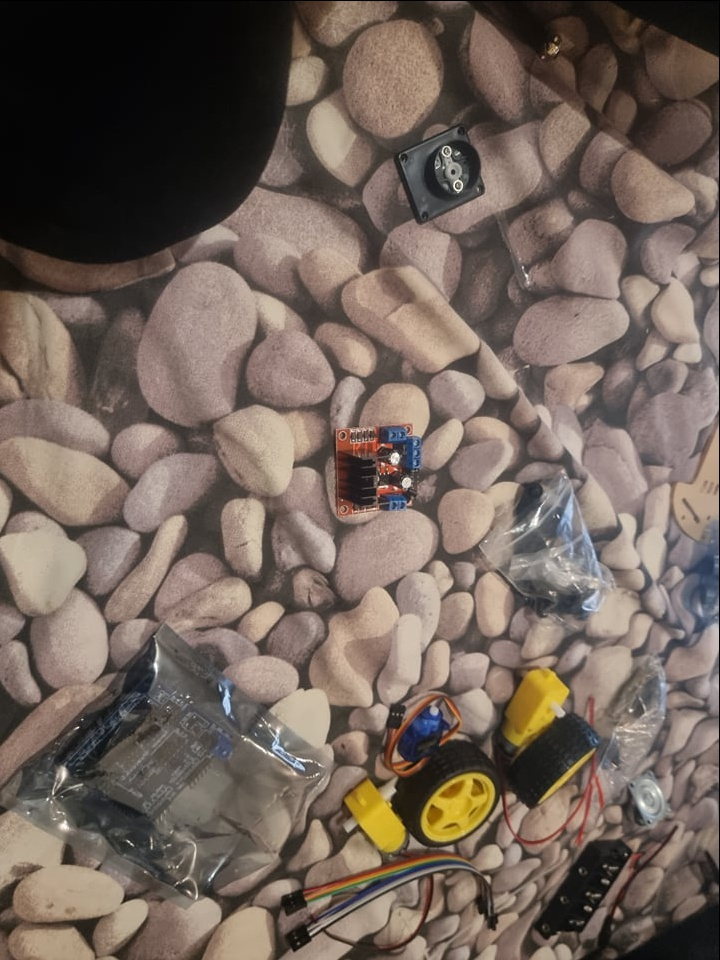BATTERY BOX: (542, 837, 635, 945)
MOTOR: (333, 417, 424, 520)
